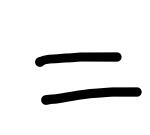eqv: (28, 40, 144, 108)
